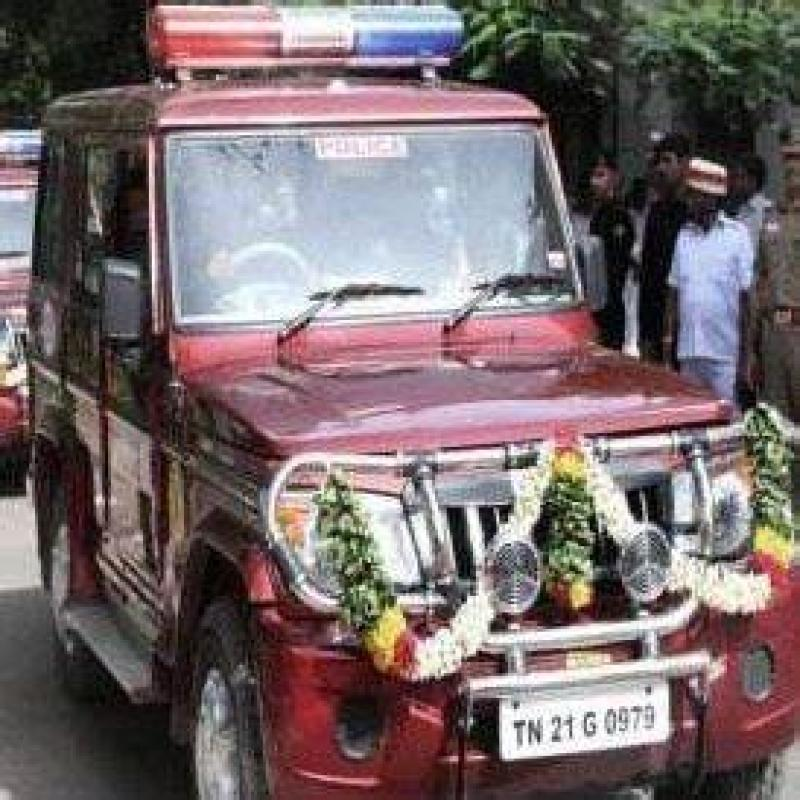AmbulanceSiren: (117, 6, 508, 87)
